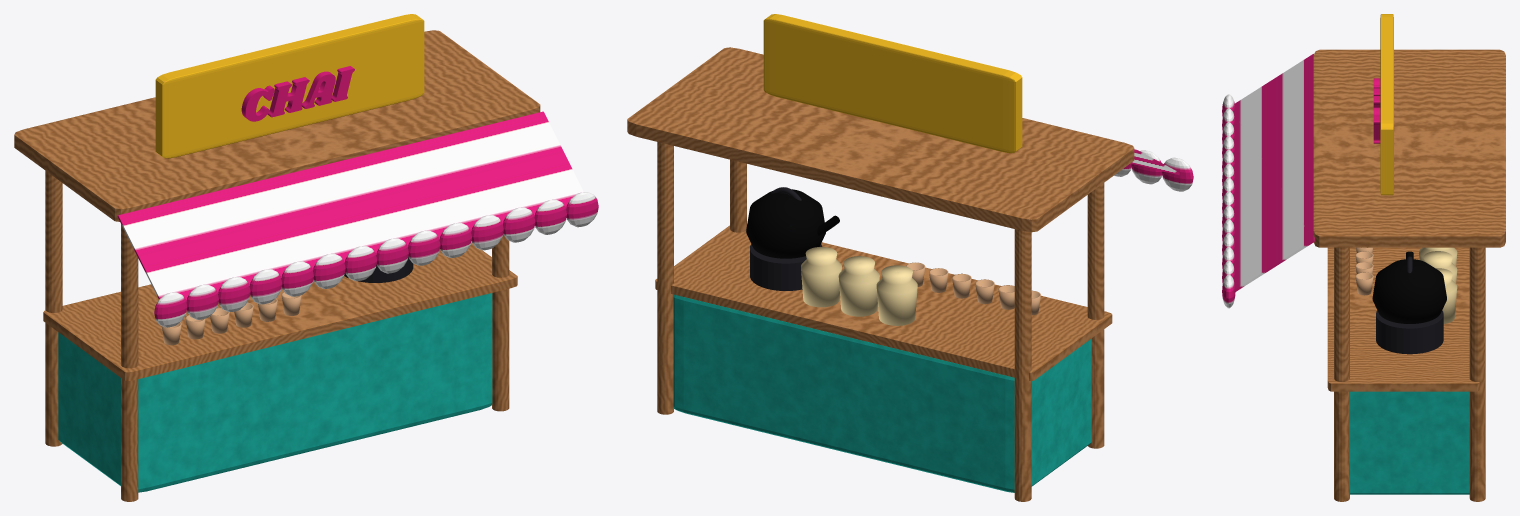
The model's file is tapri.glb.
The picture shows the model from 3 angles, left to right: view 1: azimuth 30°, elevation 25°; view 2: azimuth 150°, elevation 25°; view 3: azimuth 270°, elevation 25°; orthographic projection. The views are drawn at different scales.
Visible parts, largest first — view 1: tapri; view 2: tapri; view 3: tapri.
Boxes of the visible parts, x1,y1,x2,y2 form: tapri: (14,14,598,501); tapri: (627,14,1193,501); tapri: (1222,14,1505,501).
Bounding box in the file's own units: 4.07 × 3.4 × 2.51.
1 material, 1 textured.
